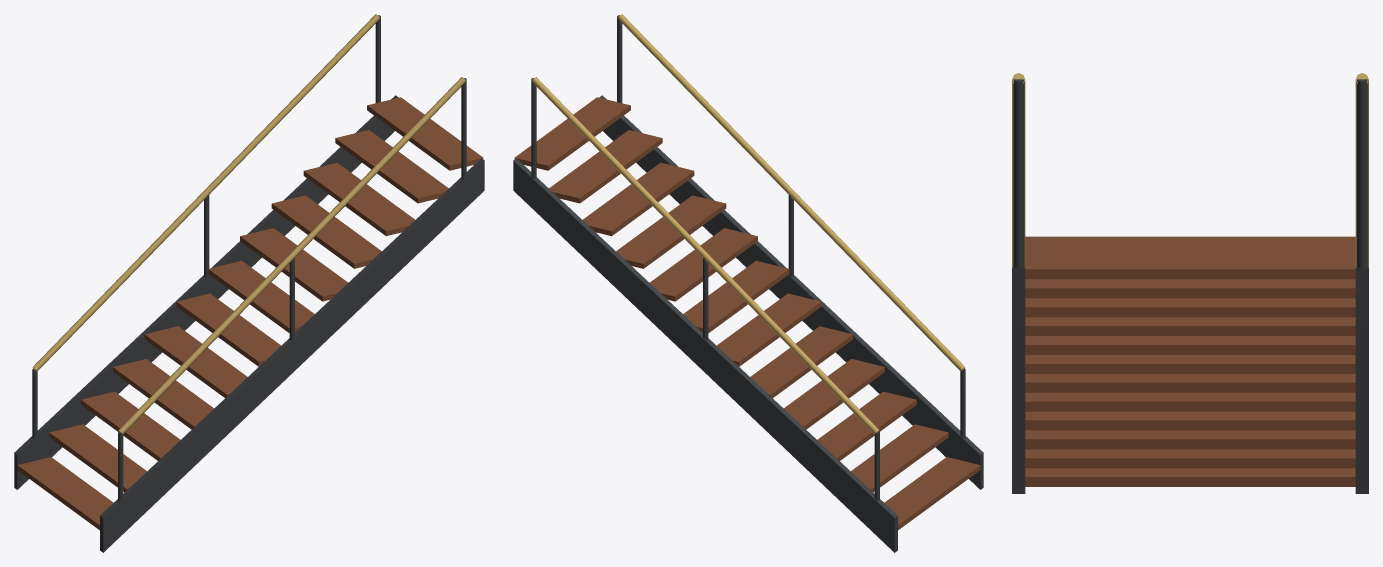
File: SM_Stairs.fbx
The picture shows the model from 3 angles, left to right: view 1: azimuth 30°, elevation 25°; view 2: azimuth 150°, elevation 25°; view 3: azimuth 270°, elevation 25°; orthographic projection. The views are drawn at different scales.
Parts seen in each view (by area): view 1: SM_Stairs; view 2: SM_Stairs; view 3: SM_Stairs.
Part boxes in pixels (box(x1,y1,x2,y2)): SM_Stairs: box(14, 14, 484, 552); SM_Stairs: box(513, 14, 983, 552); SM_Stairs: box(1012, 73, 1368, 493).
Size of what is drawn, in the model's own units: 4.02 by 3.87 by 1.62.
